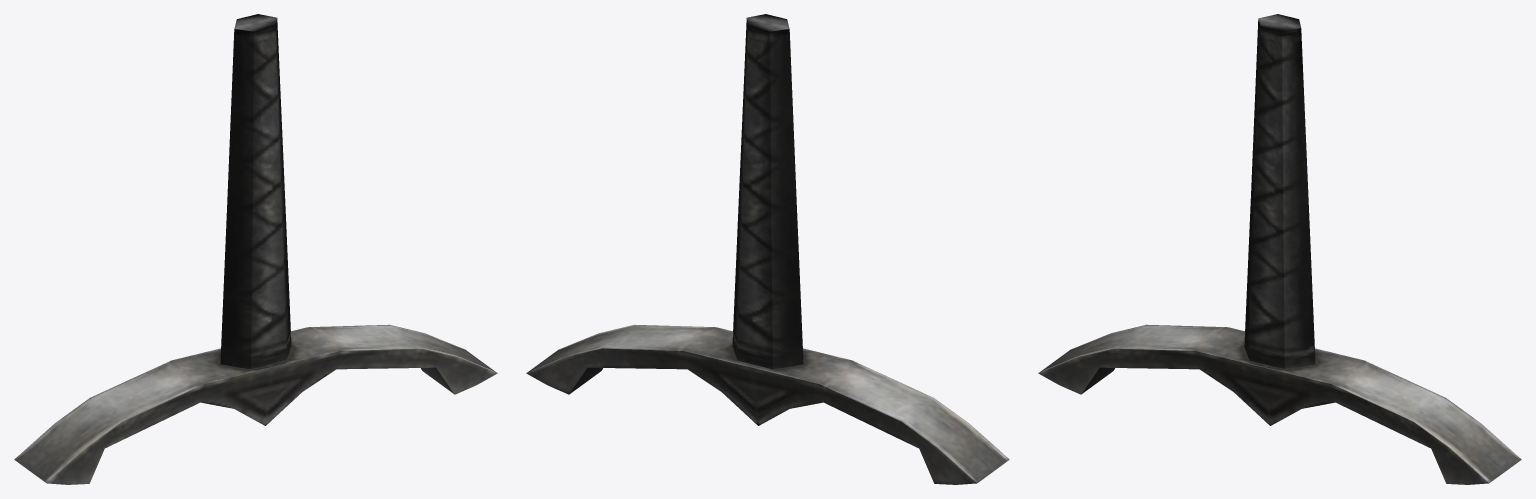
File: Longsword_grip_default.FBX
3 renders of one model, left to right at view 1: azimuth 30°, elevation 25°; view 2: azimuth 150°, elevation 25°; view 3: azimuth 330°, elevation 25°, orthographic.
Parts seen in each view (by area): view 1: Longsword_grip_default; view 2: Longsword_grip_default; view 3: Longsword_grip_default.
Boxes of the visible parts, left/top/right/bottom form: Longsword_grip_default: left=14, top=14, right=497, bottom=484; Longsword_grip_default: left=526, top=14, right=1009, bottom=484; Longsword_grip_default: left=1038, top=14, right=1521, bottom=484.
Size of the model in its own units: 25.29 by 21.66 by 3.16.
1 material, 1 textured.
